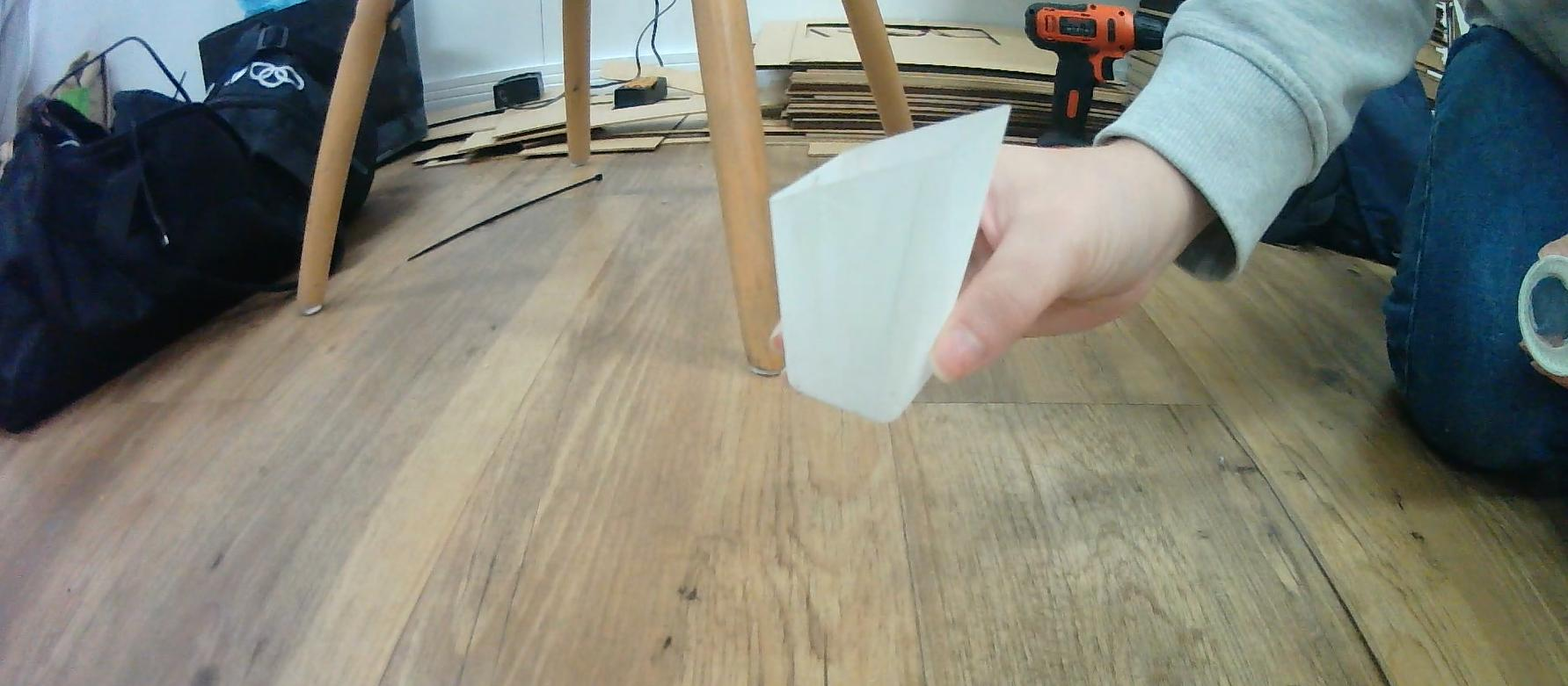erva_daninha: (768, 104, 1011, 424)
